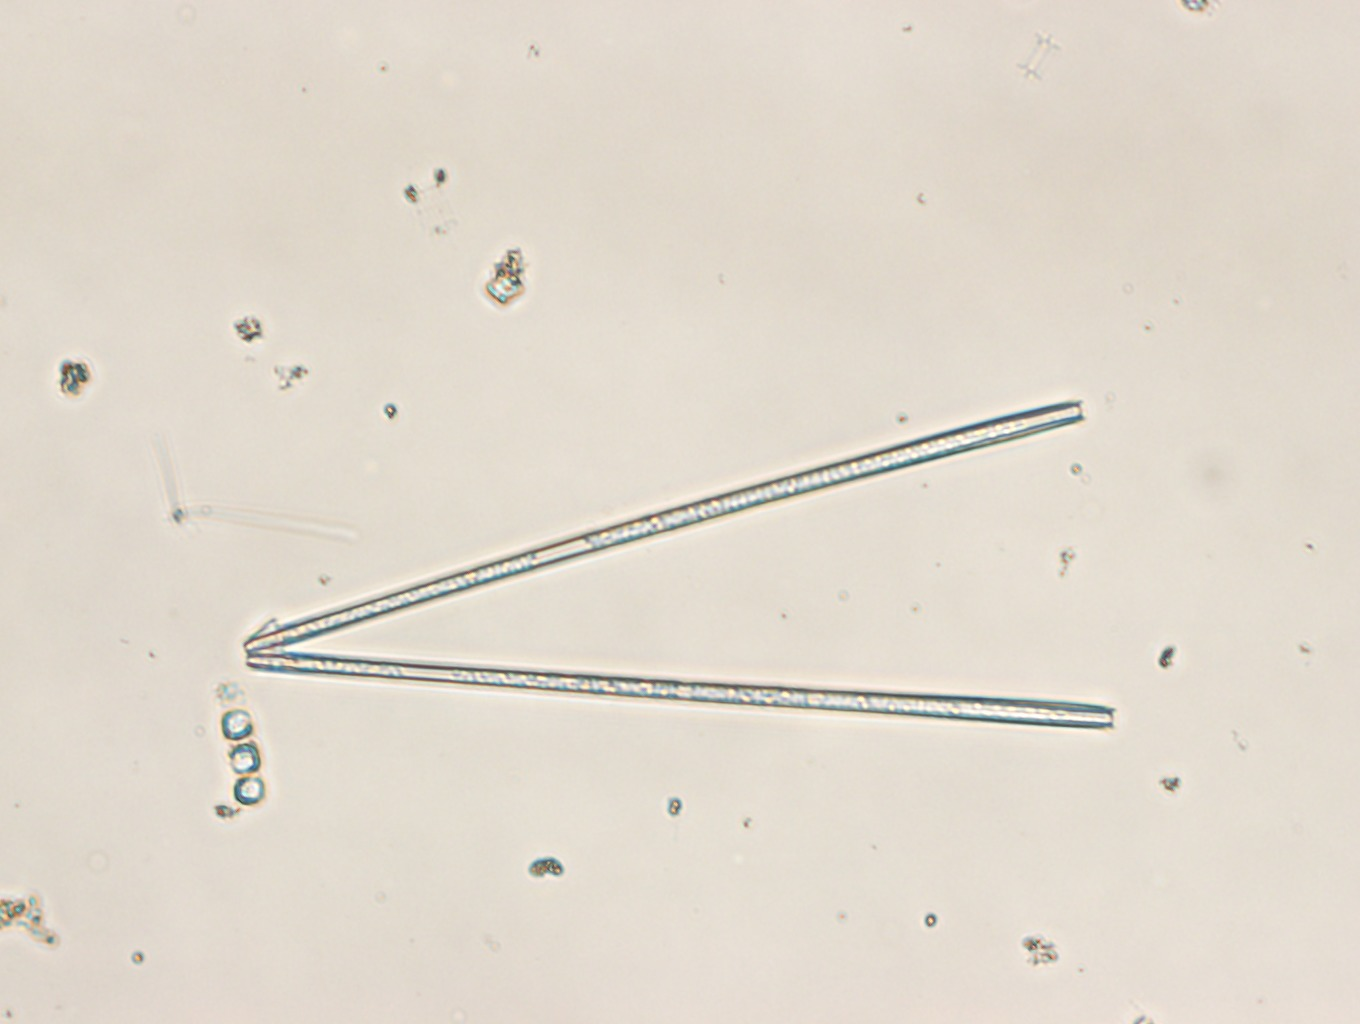thalassionema frauenfeldii: (245, 401, 1116, 733)
